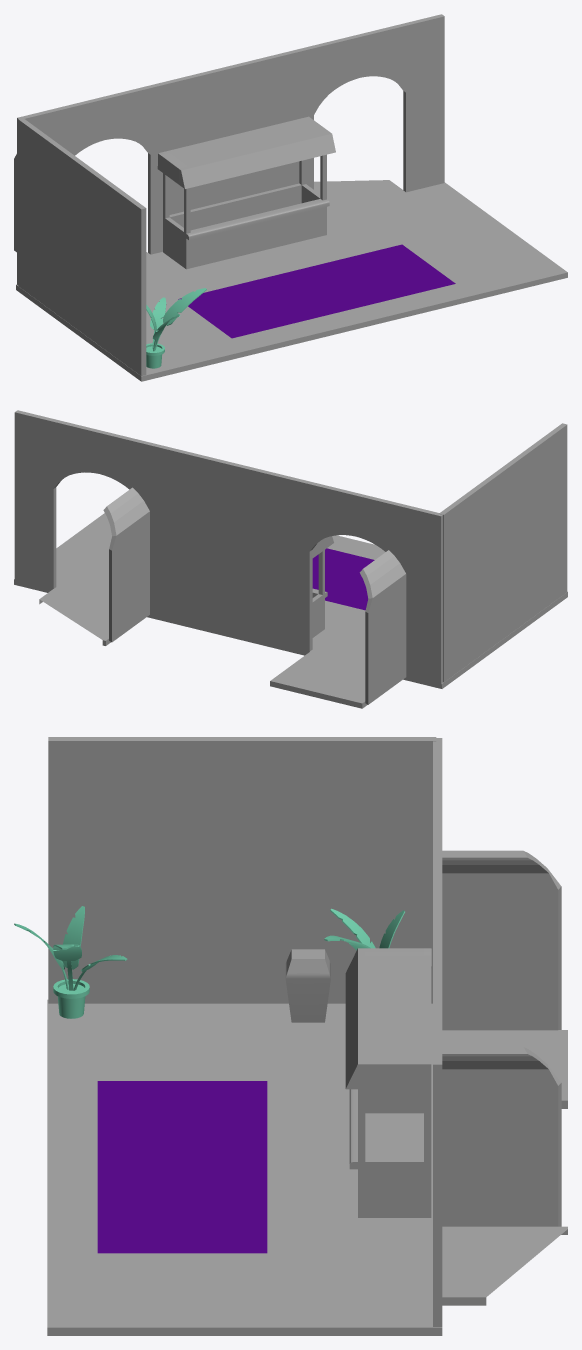
The model's file is Test_ArcadeEntrance 6.fbx.
The picture shows the model from 3 angles, top to bottom: view 1: azimuth 30°, elevation 25°; view 2: azimuth 150°, elevation 25°; view 3: azimuth 270°, elevation 25°; orthographic projection. The views are drawn at different scales.
Parts seen in each view (by area): view 1: polySurface6, polySurface3, pCube3, polySurface1, Rug_bitchasklfjf_v, Big_plant1; view 2: polySurface6, pCube3, polySurface3, polySurface10, polySurface9, Rug_bitchasklfjf_v, polySurface1; view 3: polySurface3, pCube3, Rug_bitchasklfjf_v, polySurface10, polySurface9, polySurface1, polySurface6, pCube17, Big_plant1, Big_plant.
Boxes of the visible parts, x1,y1,x2,y2 form: polySurface6: (17, 14, 444, 284); polySurface3: (16, 180, 567, 381); pCube3: (18, 118, 146, 375); polySurface1: (157, 116, 335, 269); Rug_bitchasklfjf_v: (178, 244, 455, 338); Big_plant1: (146, 288, 206, 368); polySurface6: (14, 410, 442, 684); pCube3: (439, 423, 567, 682); polySurface3: (14, 513, 567, 708); polySurface10: (359, 550, 406, 704); polySurface9: (103, 487, 149, 642); Rug_bitchasklfjf_v: (312, 548, 374, 610); polySurface1: (312, 536, 333, 637); polySurface3: (47, 999, 567, 1335); pCube3: (48, 737, 436, 1003); Rug_bitchasklfjf_v: (97, 1081, 267, 1253); polySurface10: (442, 850, 561, 1030); polySurface9: (442, 1046, 561, 1226); polySurface1: (345, 948, 431, 1217); polySurface6: (433, 738, 442, 1326); pCube17: (285, 949, 330, 1022); Big_plant1: (14, 906, 127, 1018); Big_plant: (324, 908, 404, 950).
Size of the model in its own units: 1310 by 505 by 936.
